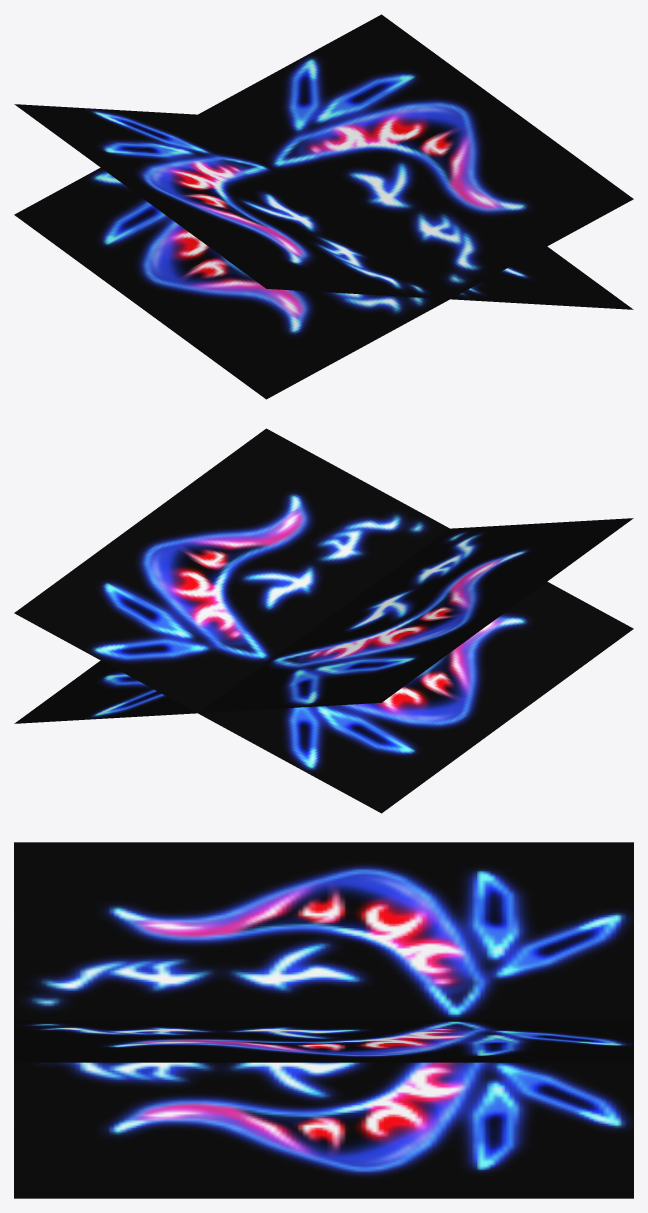
File: lunhuizhizhang002.fbx
The picture shows the model from 3 angles, top to bottom: view 1: azimuth 30°, elevation 25°; view 2: azimuth 150°, elevation 25°; view 3: azimuth 270°, elevation 25°; orthographic projection. The views are drawn at different scales.
Visible parts, largest first — view 1: lunhuizhizhang002; view 2: lunhuizhizhang002; view 3: lunhuizhizhang002.
Part boxes in pixels (x1,y1,x2,y2): lunhuizhizhang002: [14, 14, 633, 399]; lunhuizhizhang002: [14, 428, 633, 813]; lunhuizhizhang002: [14, 842, 633, 1198].
Bounding box in the file's own units: 169 × 48.58 × 201.
1 material, 1 textured.
